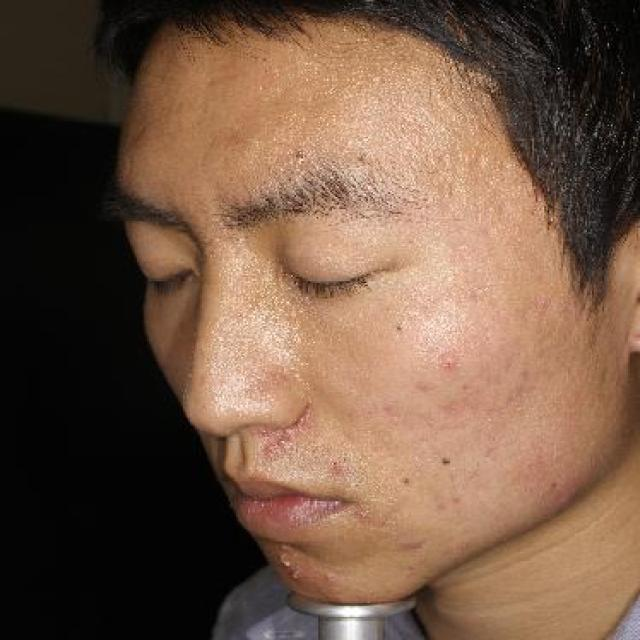dark spot: (392, 534, 433, 552), (440, 348, 462, 374), (332, 460, 347, 474)
papules: (274, 432, 291, 451), (284, 424, 296, 434)
pustules: (279, 554, 296, 572), (288, 571, 306, 583)
